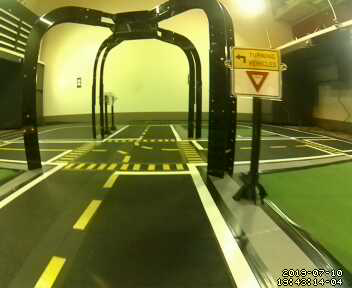Turn Yield: (233, 46, 285, 102)
